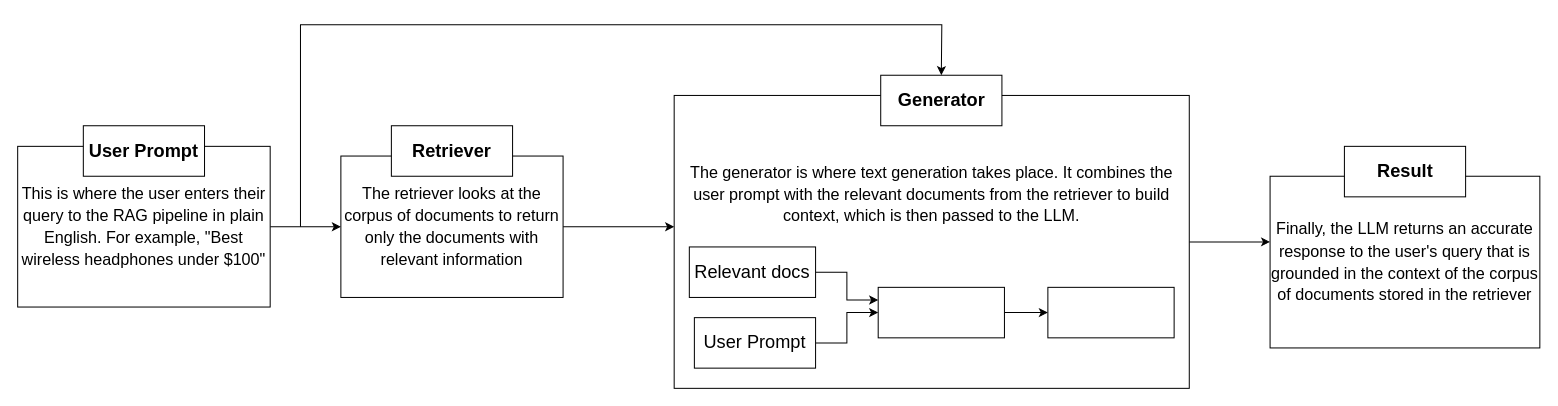
Some shapes in this 1558 by 406 pixel diagram are drawn without their labels. Here are the shapes that lost their labels. From the top down, the box of each, then its label:
(877, 286, 1004, 338): Context-Rich Prompt
(1047, 286, 1174, 338): LLM
